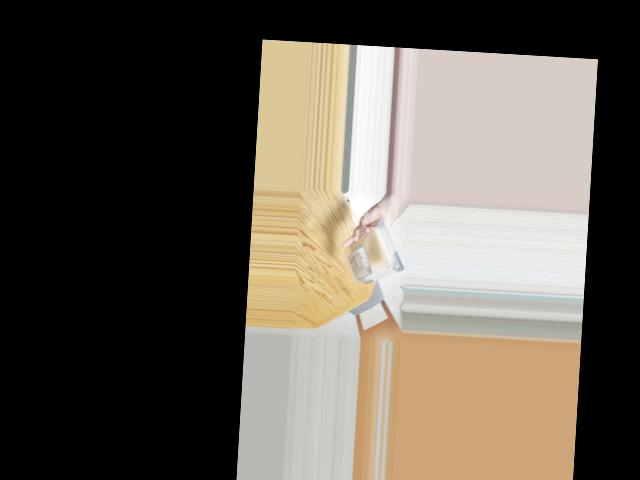cheese: (352, 218, 401, 287)
